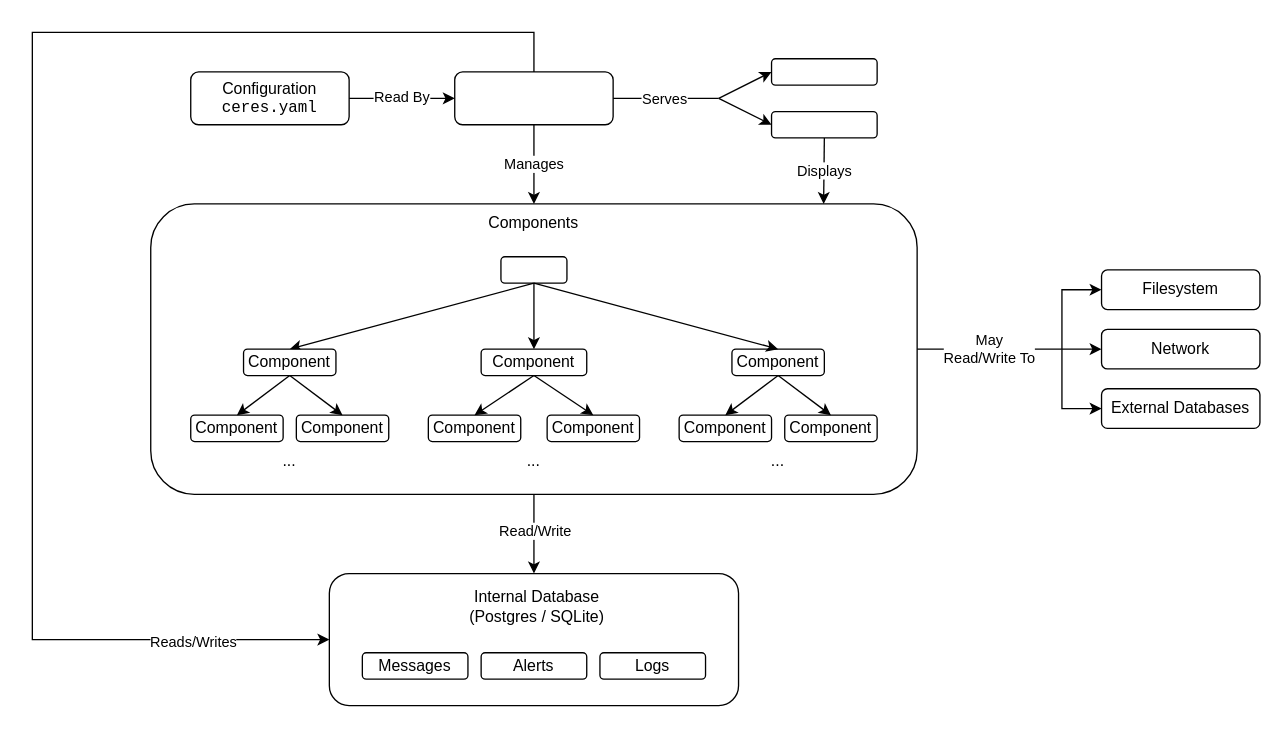
Some shapes in this 1283 by 729 pixel diagram are drawn without their labels. The centre of each missing label's shape, as x and y in pixels:
API: point 823,71
Engine: point 533,98
Root: point 533,269
Web Console: point 823,124
